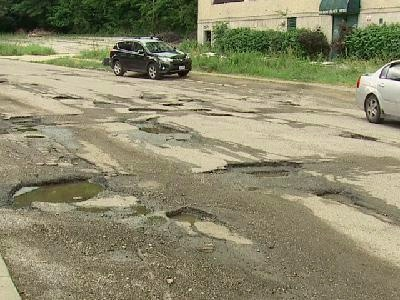pothole: (2, 173, 107, 211), (161, 204, 243, 242), (201, 157, 303, 179), (313, 187, 359, 204), (135, 123, 188, 135)
